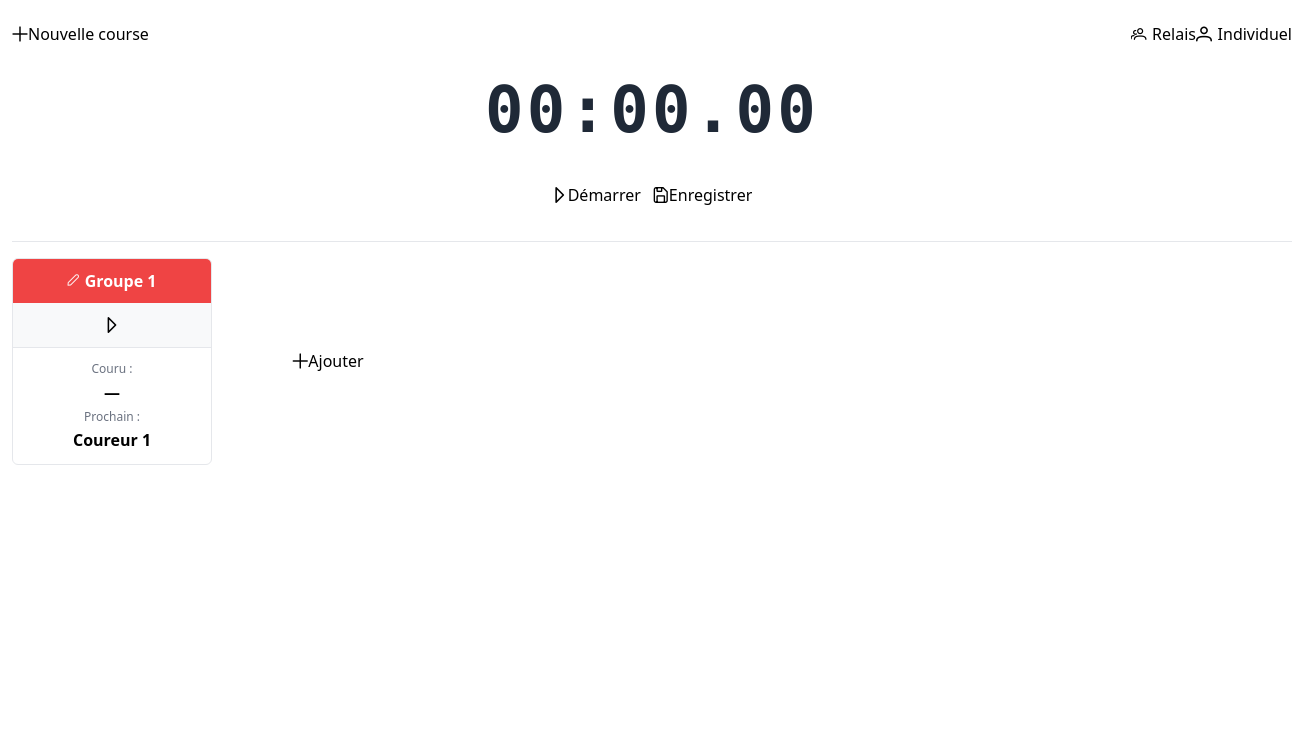
Test: HomeView › bouton Enregistrer désactivé pendant que le chrono tourne
Click the button "Démarrer" at [596, 195], box [552,173,641,217]
Wait 10 ms
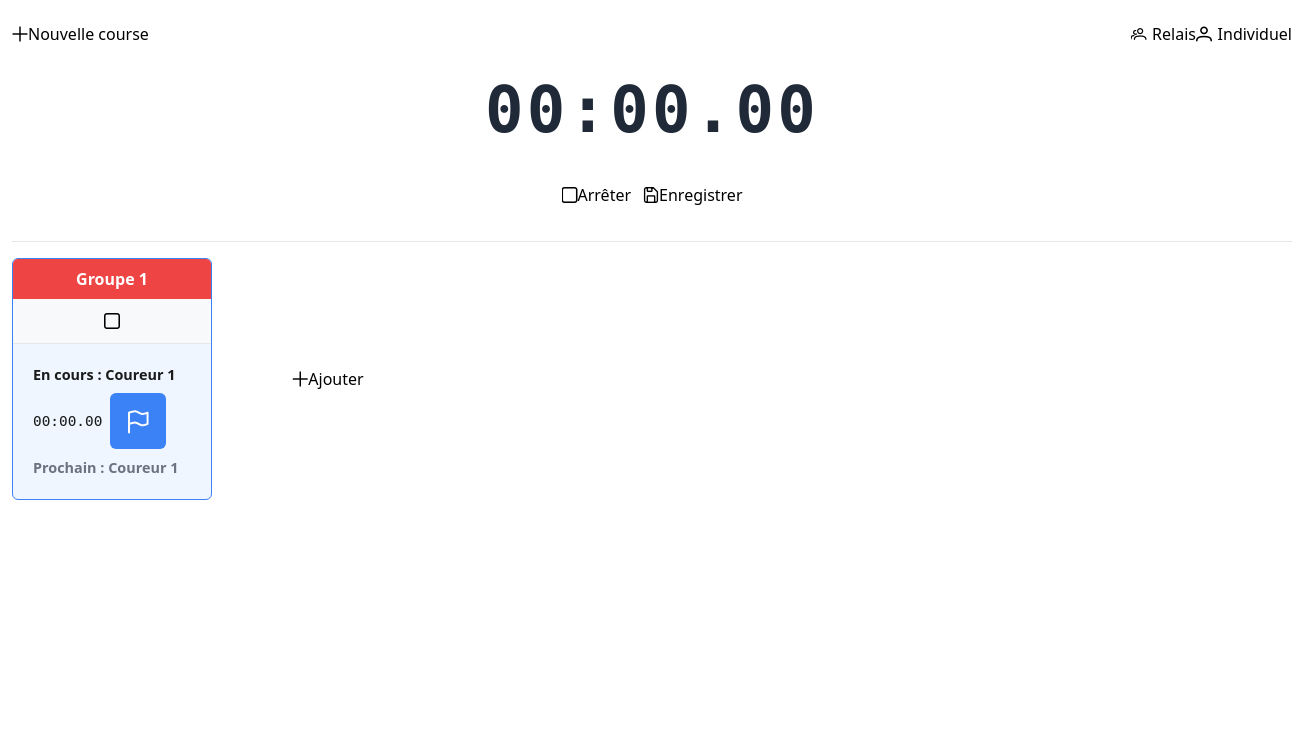
expect the button "Enregistrer" is disabled: met, box [643,173,742,217]
